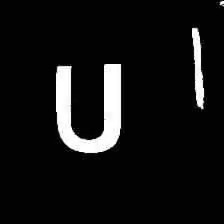LTR_U: (46, 57, 129, 155)
